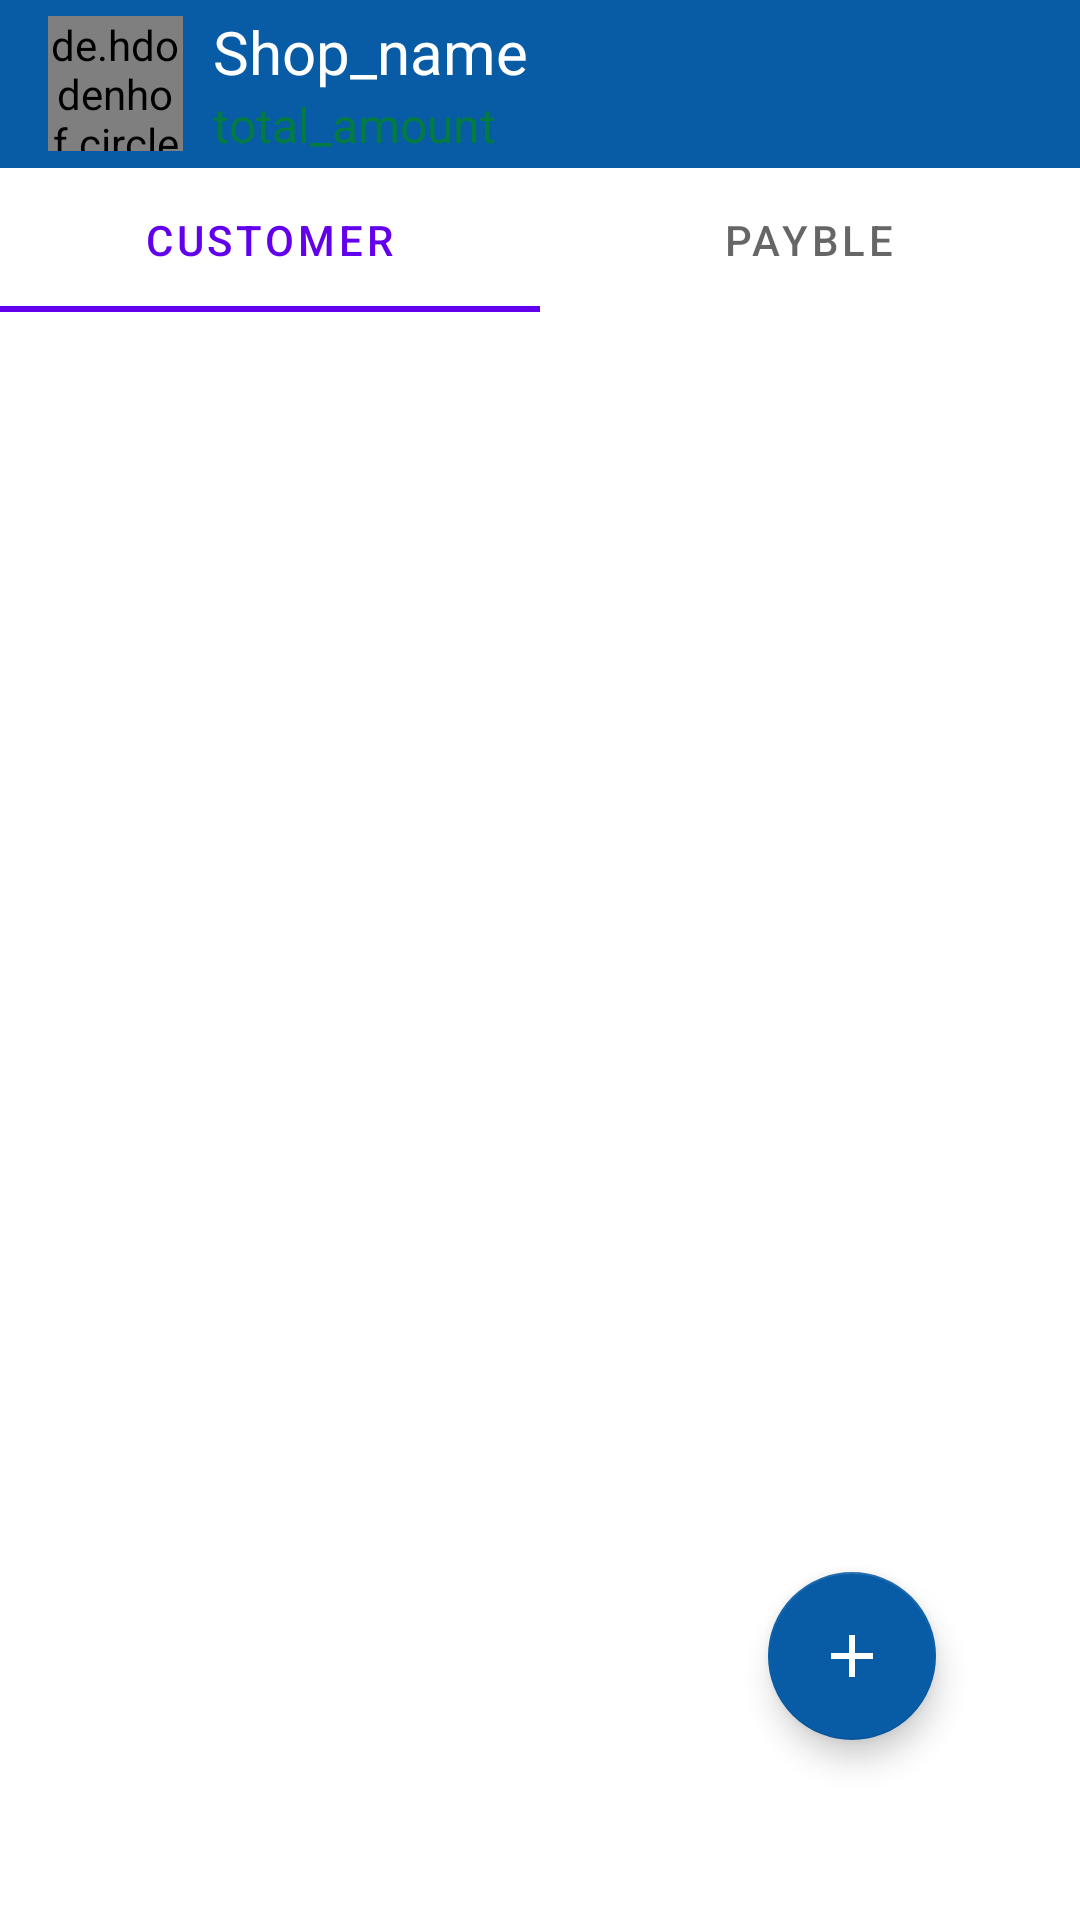

Icons on this 1080*1920 Android screen, each with the point to tap as [x,y]:
add: [852,1656]
